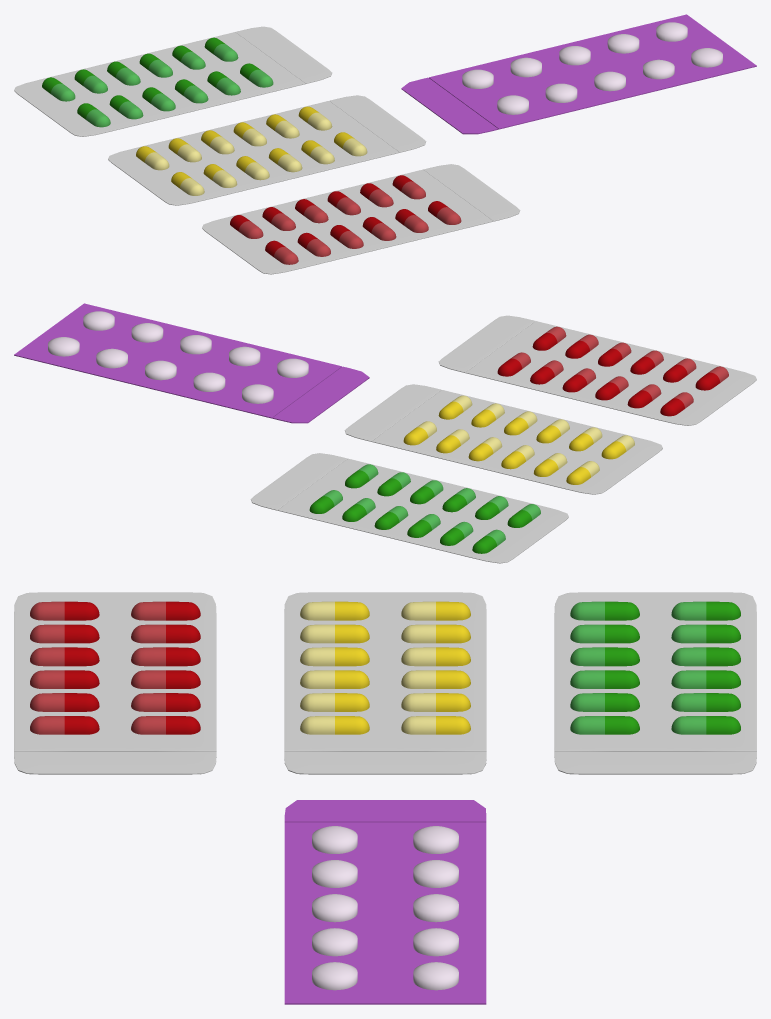
3 views of the same model, one above another, from view 1: azimuth 30°, elevation 25°; view 2: azimuth 150°, elevation 25°; view 3: azimuth 270°, elevation 25° (orthographic). The views are drawn at different scales.
Visible parts, largest first — view 1: 立方体.003, 立方体, 立方体.001, 立方体.002; view 2: 立方体.003, 立方体, 立方体.002, 立方体.001; view 3: 立方体.003, 立方体, 立方体.001, 立方体.002.
Boxes of the visible parts, x1,y1,x2,y2 form: 立方体.003: (401,14,756,134); 立方体: (108,95,426,205); 立方体.001: (202,164,520,274); 立方体.002: (14,26,332,136); 立方体.003: (14,303,369,423); 立方体: (344,384,662,494); 立方体.002: (250,453,568,563); 立方体.001: (438,315,756,425); 立方体.003: (284,800,486,1004); 立方体: (284,592,486,774); 立方体.001: (14,592,216,774); 立方体.002: (554,592,756,774).
Size of the model in its own units: 5382 by 97.9 by 4125.
